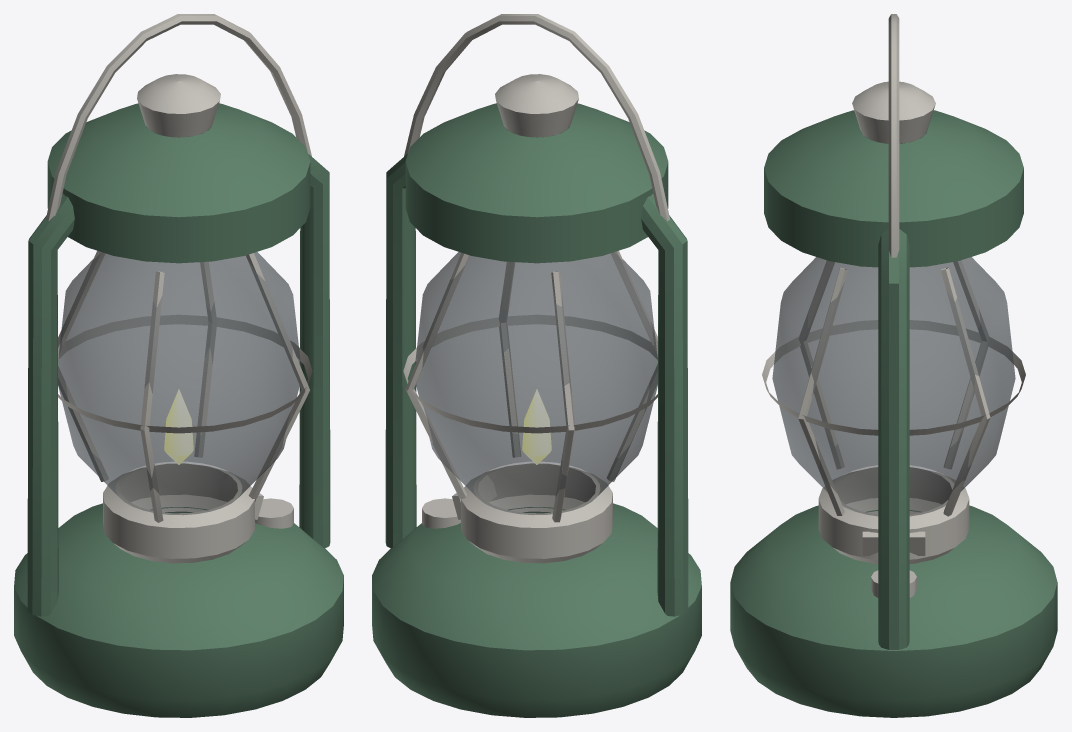
File: prop_lantern.glb
3 views of the same model, side by side, from view 1: azimuth 30°, elevation 25°; view 2: azimuth 150°, elevation 25°; view 3: azimuth 270°, elevation 25° (orthographic).
Parts seen in each view (by area): view 1: FL_prop_lantern_paint, FL_prop_lantern_glass2, FL_prop_lantern_tin, FL_prop_lantern_flame; view 2: FL_prop_lantern_paint, FL_prop_lantern_glass2, FL_prop_lantern_tin, FL_prop_lantern_flame; view 3: FL_prop_lantern_paint, FL_prop_lantern_glass2, FL_prop_lantern_tin.
Boxes of the visible parts, x1=… form: FL_prop_lantern_paint: x1=14, y1=103, x2=343, y2=717; FL_prop_lantern_glass2: x1=58, y1=252, x2=301, y2=515; FL_prop_lantern_tin: x1=46, y1=14, x2=312, y2=563; FL_prop_lantern_flame: x1=164, y1=389, x2=193, y2=464; FL_prop_lantern_paint: x1=372, y1=103, x2=701, y2=717; FL_prop_lantern_glass2: x1=415, y1=252, x2=657, y2=515; FL_prop_lantern_tin: x1=403, y1=14, x2=669, y2=563; FL_prop_lantern_flame: x1=522, y1=389, x2=551, y2=464; FL_prop_lantern_paint: x1=730, y1=110, x2=1057, y2=717; FL_prop_lantern_glass2: x1=772, y1=257, x2=1015, y2=516; FL_prop_lantern_tin: x1=762, y1=14, x2=1025, y2=597.
Size of the model in its own units: 0.1623 by 0.3323 by 0.156.
